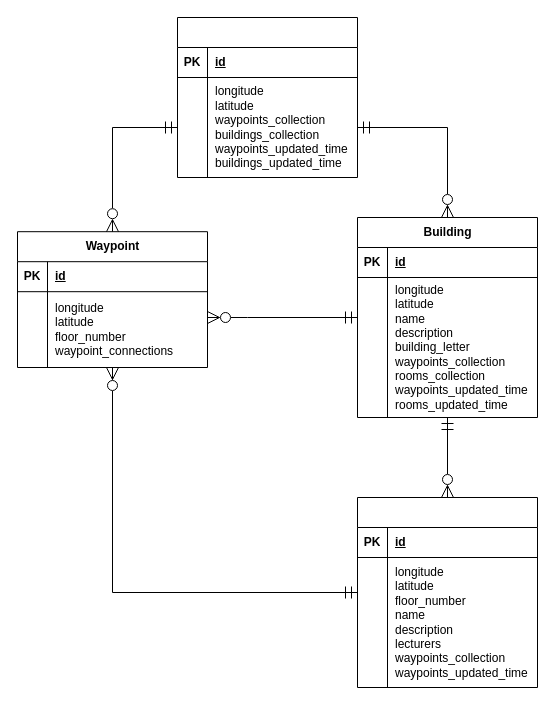
Some shapes in this 555 by 705 pixel diagram are drawn without their labels. The shapes that lost their labels are listed below. From the top down, each one's box as (x1, y1, x2, y2) in pixels, then its label:
(176, 16, 358, 178): Base Map
(356, 496, 538, 688): Room
